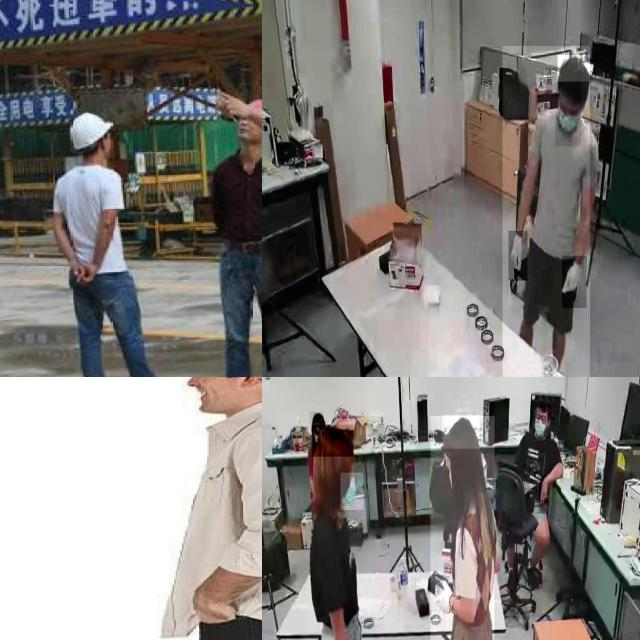No_Ear-Protection: (235, 377, 262, 395)
face_mask: (555, 82, 581, 146), (341, 473, 364, 510), (531, 412, 553, 439)
face_nomask: (178, 378, 228, 418)
hand_glove: (562, 256, 587, 309), (434, 576, 461, 618), (508, 231, 528, 281)
hand_noglove: (213, 92, 248, 120), (80, 264, 103, 284), (72, 259, 87, 286), (539, 475, 549, 503)
head_helmet: (65, 112, 116, 154)
head_nohelmet: (312, 424, 354, 458), (442, 415, 480, 449), (558, 55, 590, 82), (533, 394, 551, 408), (309, 411, 325, 424)
person: (51, 110, 196, 377), (502, 45, 590, 377), (157, 377, 262, 640), (194, 93, 262, 377), (307, 431, 392, 640), (430, 416, 495, 640), (517, 390, 563, 570)
